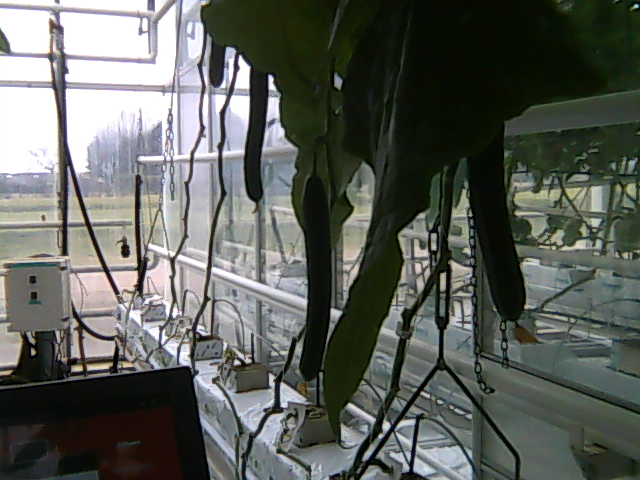concombre: (465, 120, 543, 348), (289, 165, 337, 398), (237, 70, 271, 218)
